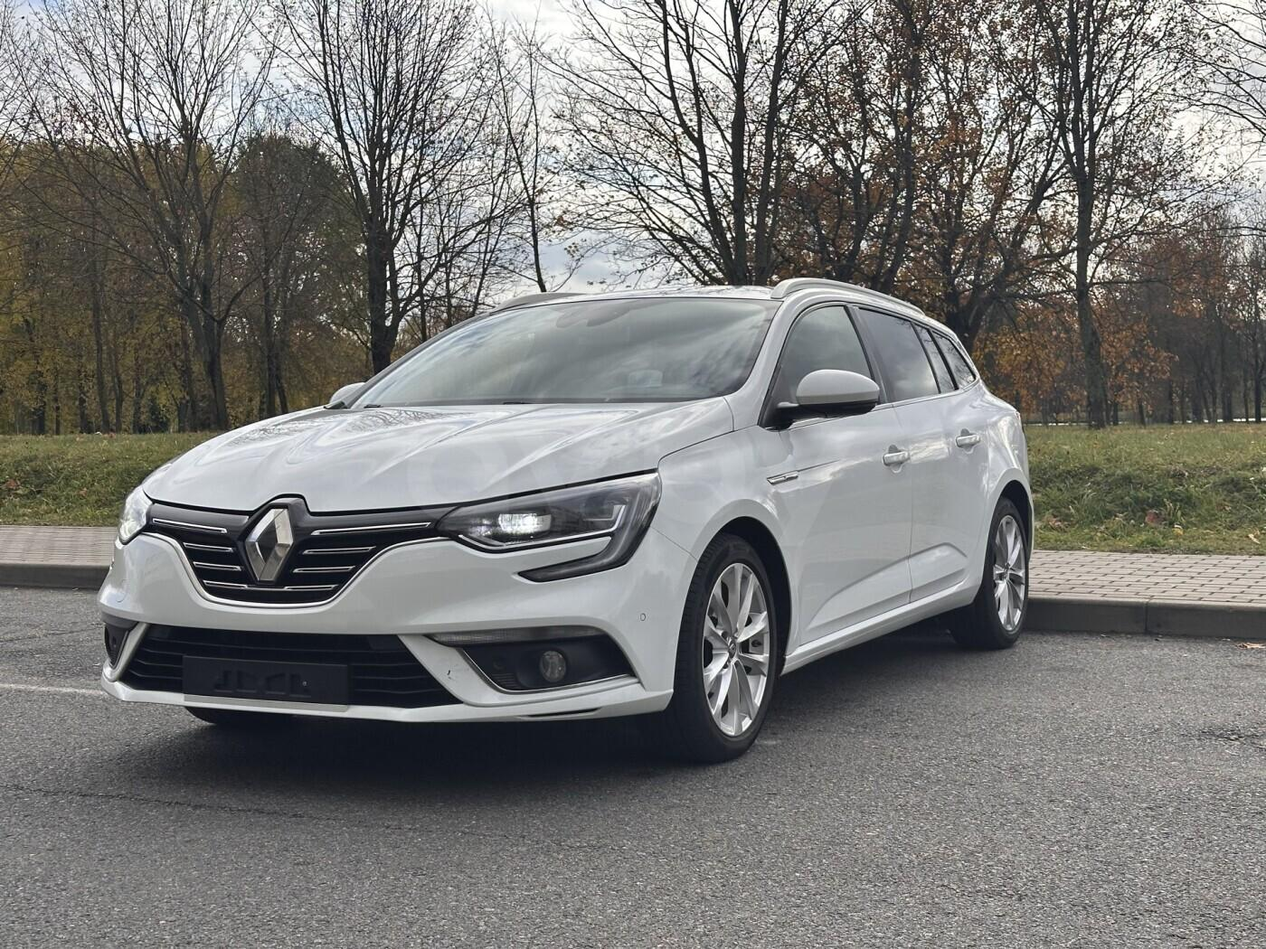Megane_2016-2020: (96, 270, 1039, 779)
